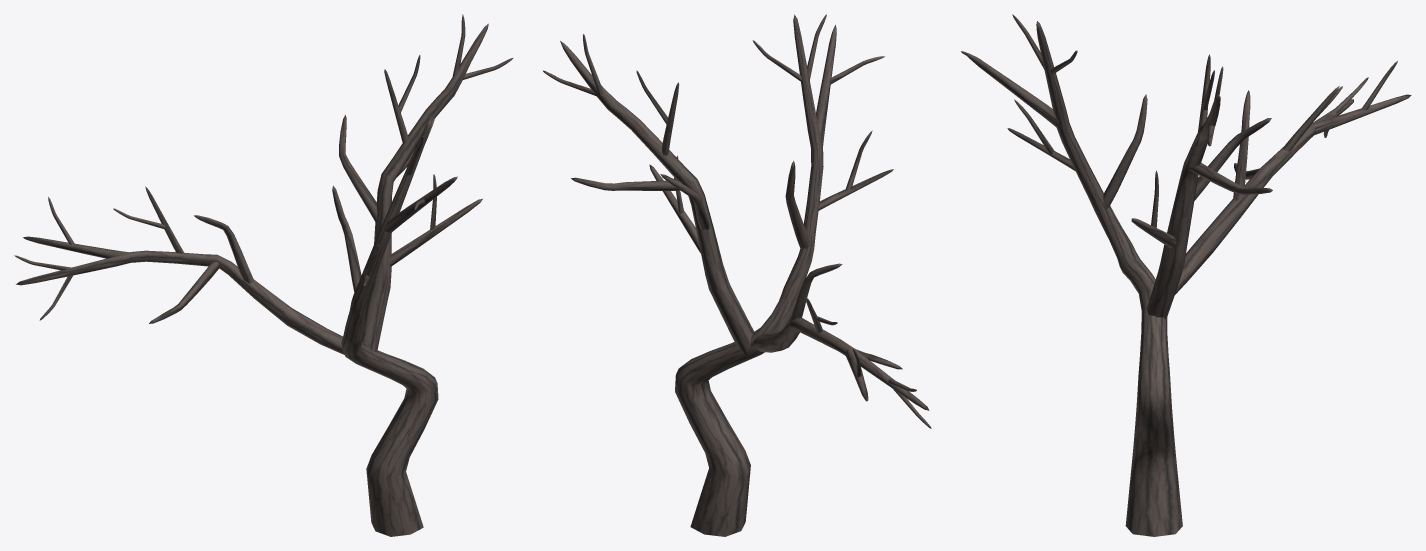
File: DeadTree_7.glb
The picture shows the model from 3 angles, left to right: view 1: azimuth 30°, elevation 25°; view 2: azimuth 150°, elevation 25°; view 3: azimuth 270°, elevation 25°; orthographic projection. The views are drawn at different scales.
Bounding box in the file's own units: 6.14 × 6.31 × 5.03.
1 material, 1 textured.
